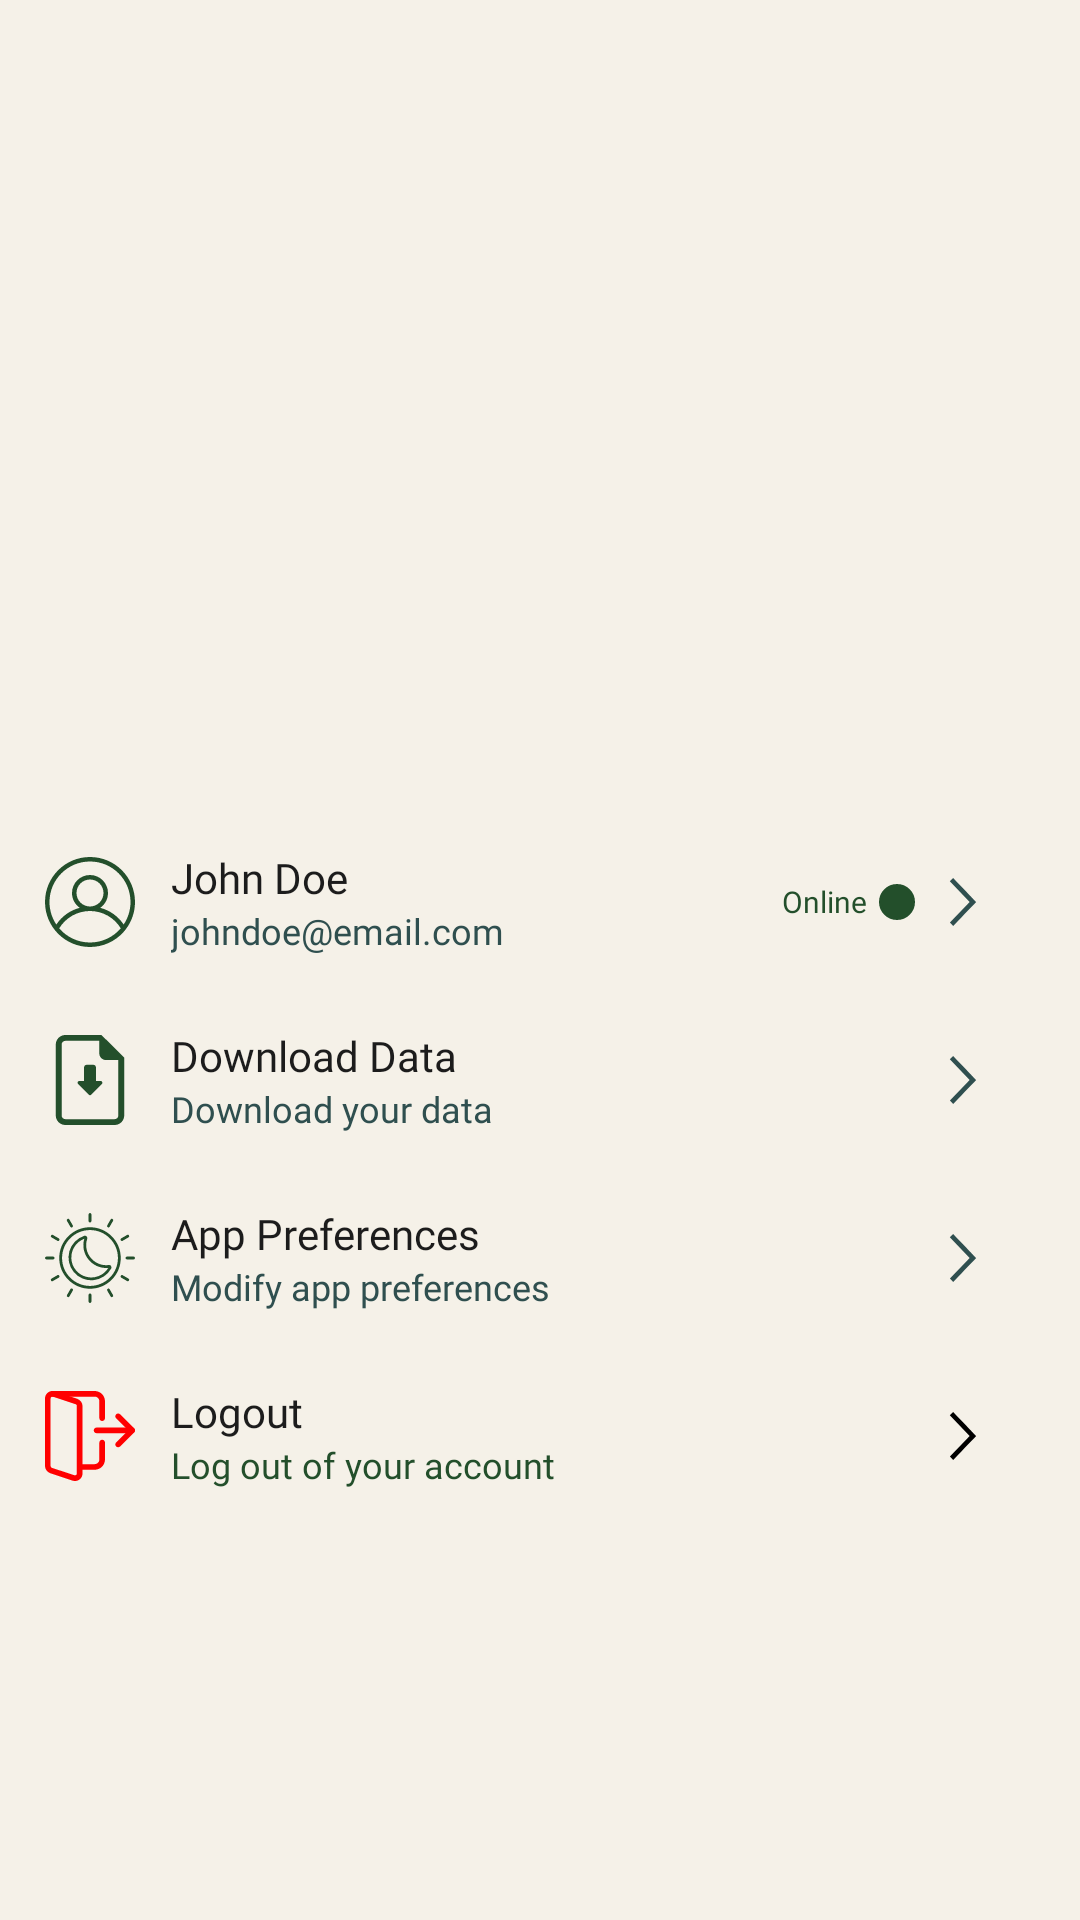

Icon bounding boxes for this 1080px x 1920px phone screenshot, format (x1, y1, x2, y2):
arrow right: (950, 878, 976, 926), (950, 1056, 976, 1104), (950, 1234, 976, 1282), (950, 1412, 976, 1460)
profile: (45, 857, 135, 947)
